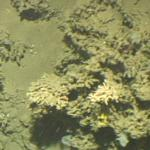alive: (11, 4, 147, 144)
